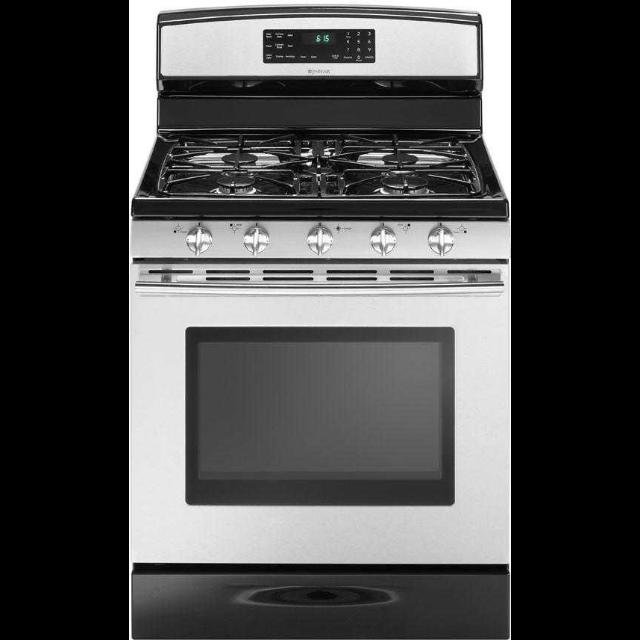Oven: (129, 195, 511, 640)
